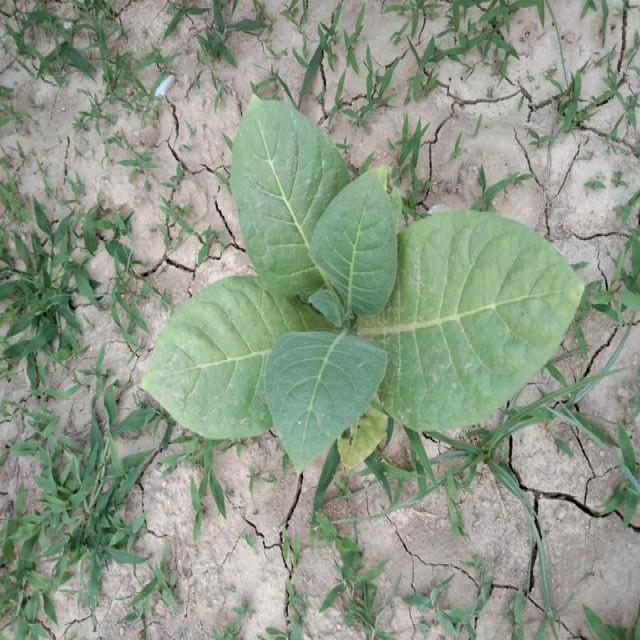crop: (128, 85, 583, 491)
